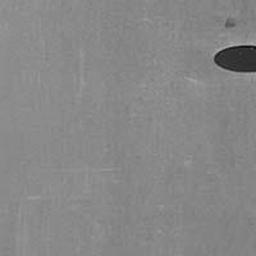Punching: (211, 44, 256, 73)
